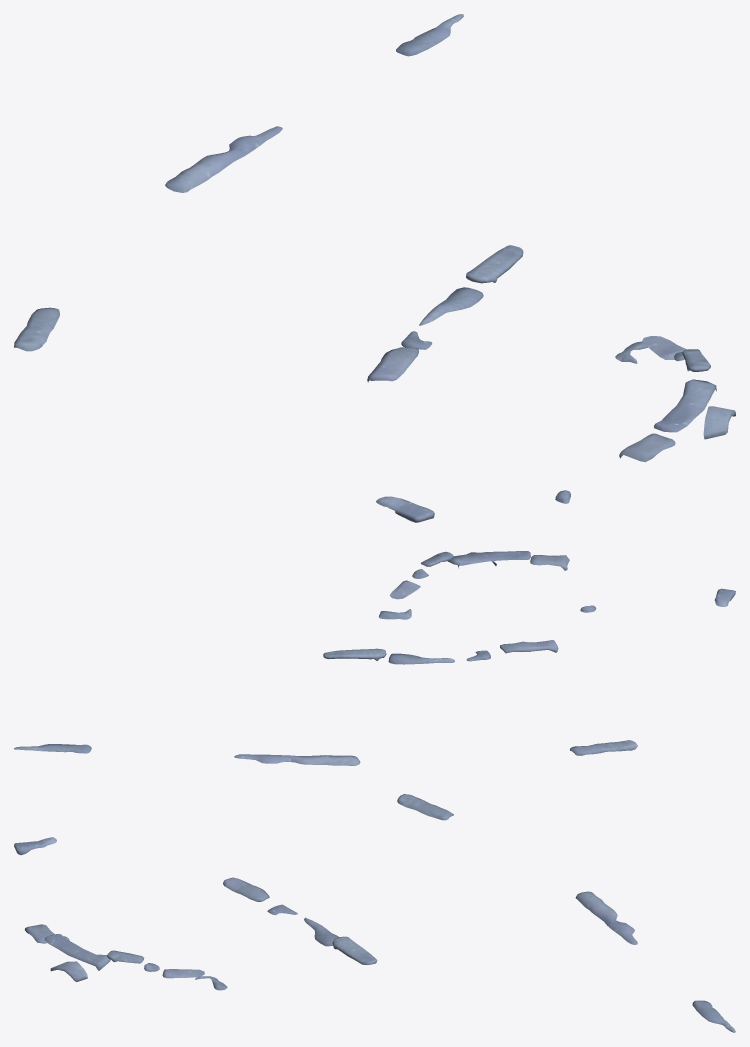
File: pref_sm_beach_winter_snow09_lv1.fbx
3 renders of one model, top to bottom at view 1: azimuth 30°, elevation 25°; view 2: azimuth 150°, elevation 25°; view 3: azimuth 270°, elevation 25°, orthographic. The views are drawn at different scales.
Parts seen in each view (by area): view 1: pref_sm_beach_winter_snow09_lv1; view 2: pref_sm_beach_winter_snow09_lv1; view 3: pref_sm_beach_winter_snow09_lv1.
Part boxes in pixels (<box>): pref_sm_beach_winter_snow09_lv1: <box>14,14,735,522</box>; pref_sm_beach_winter_snow09_lv1: <box>14,551,735,765</box>; pref_sm_beach_winter_snow09_lv1: <box>14,794,735,1032</box>.
Size of the model in its own units: 24.73 by 2.3 by 31.79.
